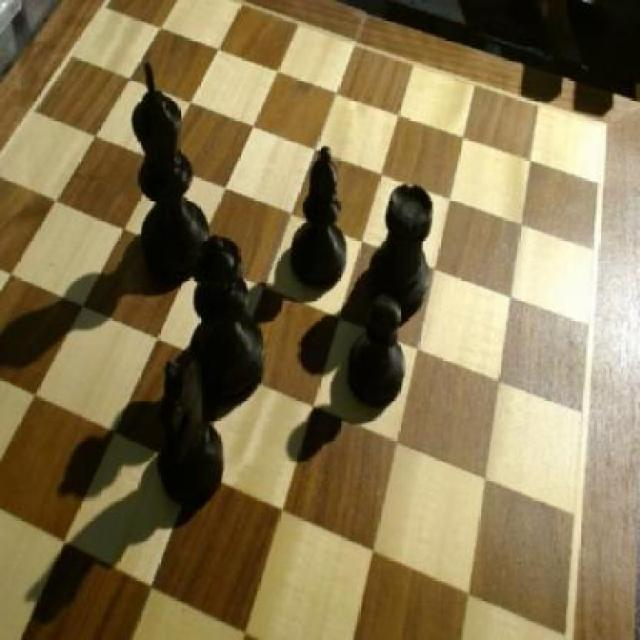bishop: (286, 142, 353, 290)
black-bishop: (130, 58, 212, 282)
black-king: (151, 351, 228, 511)
black-knight: (346, 289, 416, 408)
black-pawn: (189, 229, 272, 406)
black-queen: (374, 177, 438, 314)
